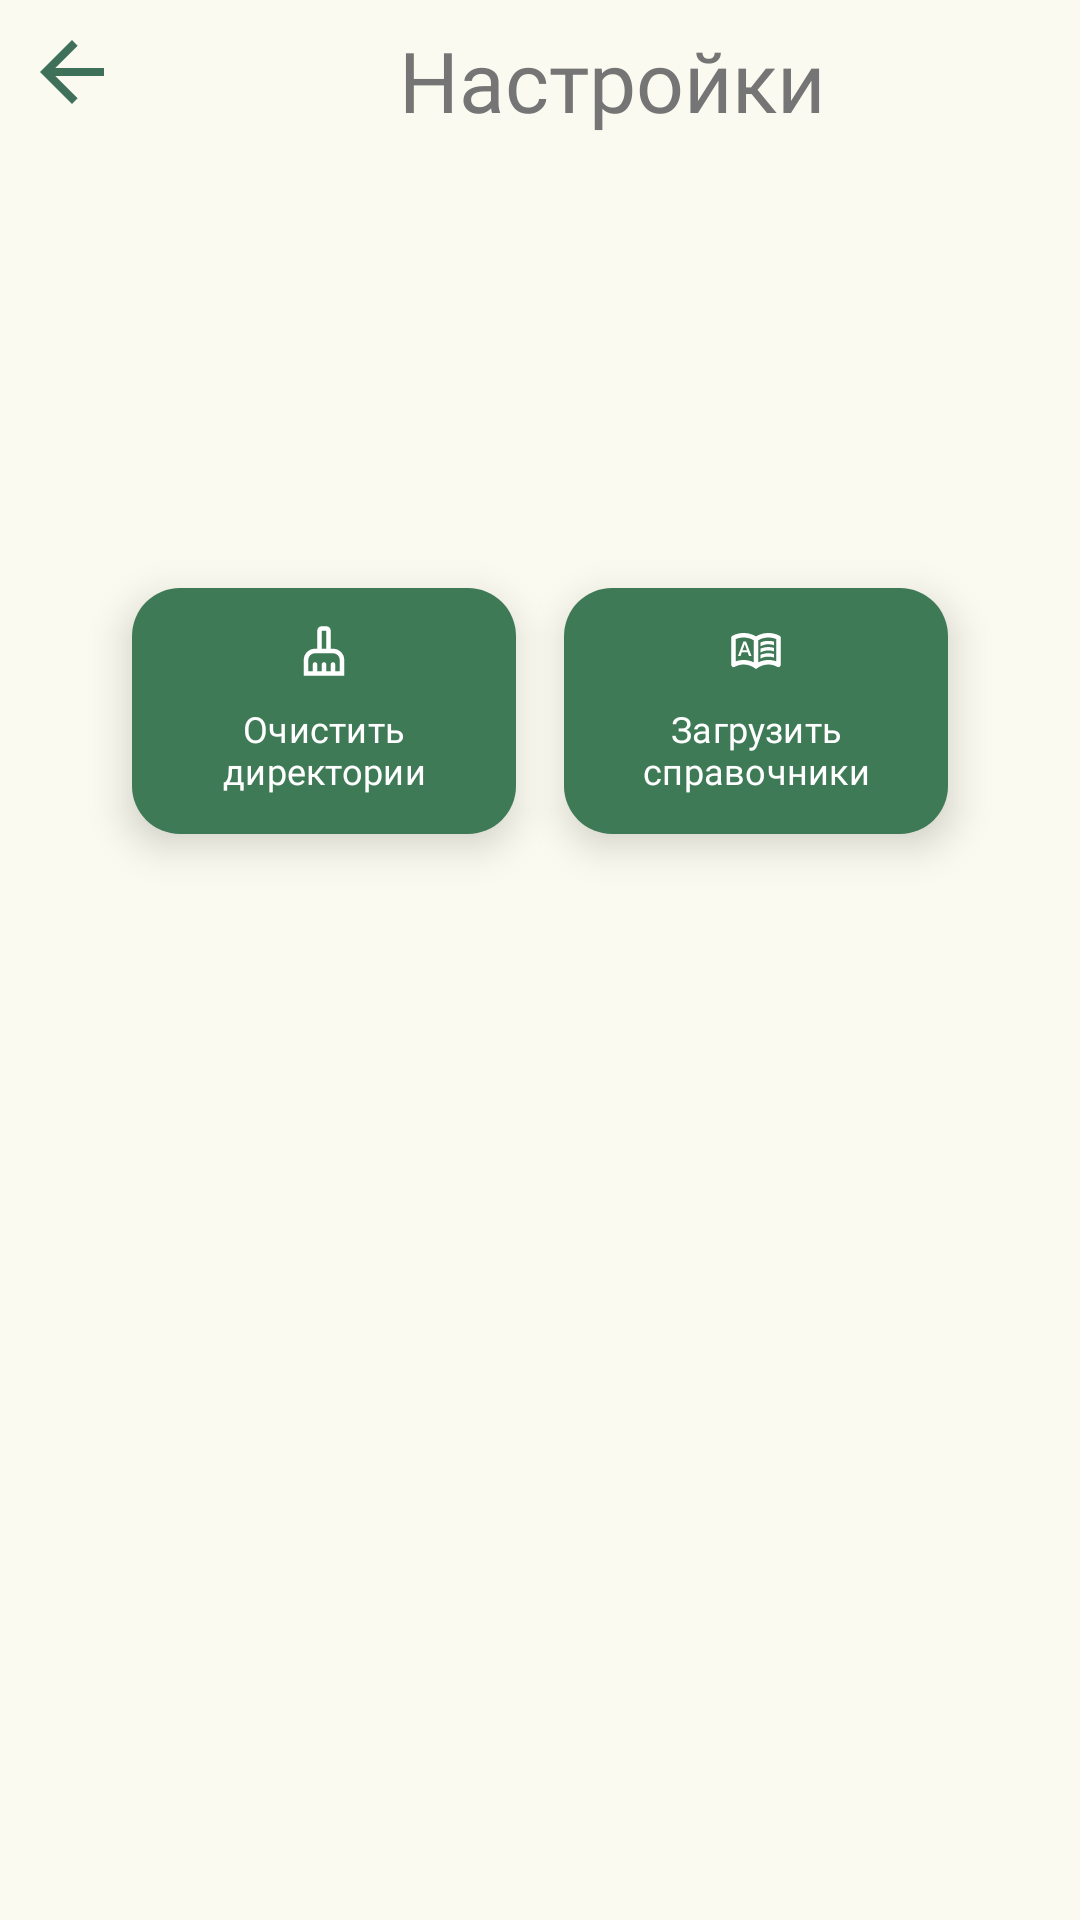

Named icons in this screenshot (1080 x 1920) and their bounding boxes, (x1, y1, x2, y2):
Назад: (40, 40, 104, 104)
